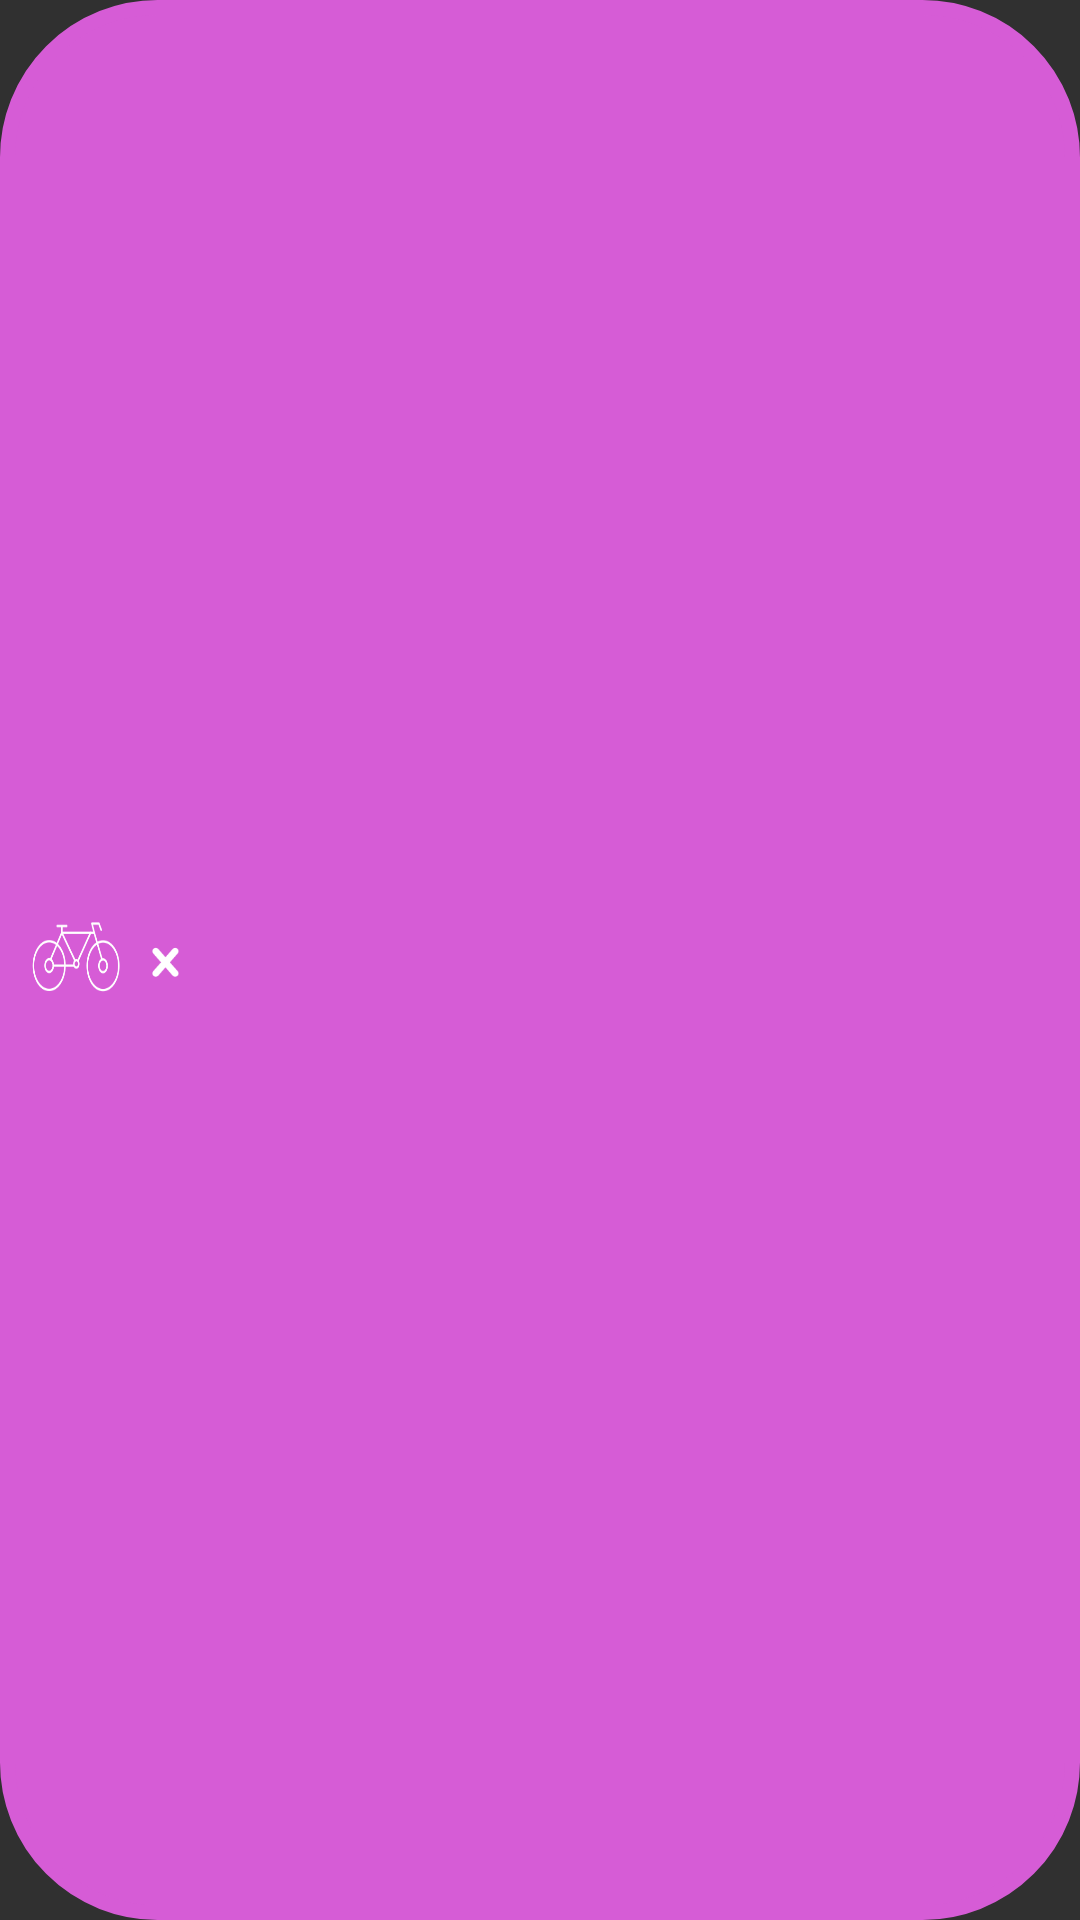

Locate icon controls on the screen. Image size 1080x1920, boxes as [x1,y1,x2,y2].
close: [152,948,179,977]
cycle transport: [32,922,120,992]
